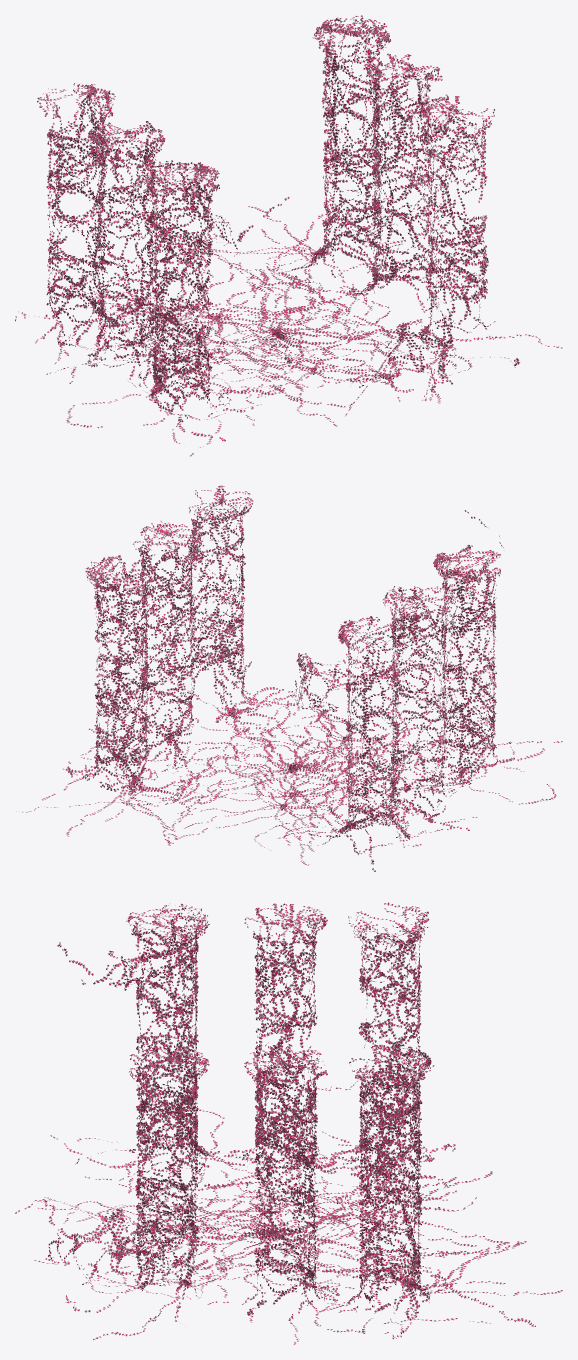
File: Combined mesh Ivy Leaves.fbx
3 views of the same model, one above another, from view 1: azimuth 30°, elevation 25°; view 2: azimuth 150°, elevation 25°; view 3: azimuth 270°, elevation 25° (orthographic). The views are drawn at different scales.
Visible parts, largest first — view 1: Combined mesh; view 2: Combined mesh; view 3: Combined mesh.
Boxes of the visible parts, left/top/right/bottom form: Combined mesh: left=15, top=15, right=562, bottom=456; Combined mesh: left=22, top=485, right=562, bottom=871; Combined mesh: left=15, top=902, right=562, bottom=1344.
Size of the model in its own units: 22.36 by 11.21 by 21.73.
